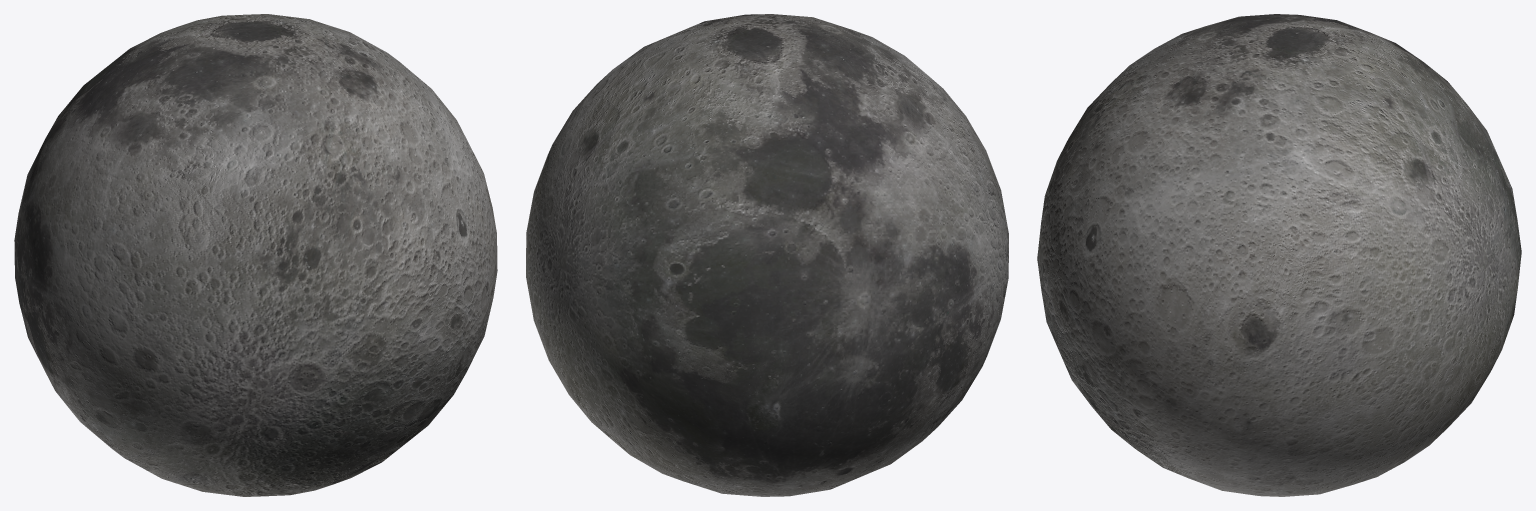
File: moon.glb
3 renders of one model, left to right at view 1: azimuth 30°, elevation 25°; view 2: azimuth 150°, elevation 25°; view 3: azimuth 270°, elevation 25°, orthographic.
Visible parts, largest first — view 1: Moon; view 2: Moon; view 3: Moon.
Part boxes in pixels (left/top/right/bottom): Moon: left=14, top=14, right=497, bottom=496; Moon: left=526, top=14, right=1008, bottom=496; Moon: left=1037, top=14, right=1521, bottom=496.
Size of the model in its own units: 3.45 by 3.44 by 3.45.
1 material, 1 textured.
